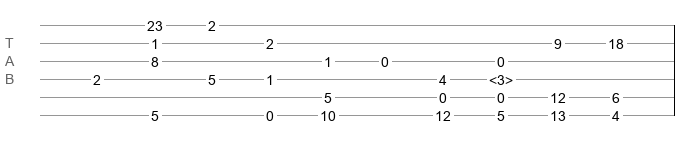0: (266, 108, 274, 118), (381, 54, 389, 64), (439, 90, 447, 100), (497, 54, 505, 64), (497, 90, 505, 100)
1: (151, 36, 159, 46), (266, 72, 274, 82), (324, 54, 332, 64)
10: (320, 108, 336, 118)
12: (435, 108, 451, 118), (550, 90, 566, 100)
13: (550, 108, 566, 118)
18: (608, 36, 624, 46)
2: (93, 72, 101, 82), (208, 18, 216, 28), (266, 36, 274, 46)
23: (147, 18, 163, 28)
4: (439, 72, 447, 82), (612, 108, 620, 118)
5: (151, 108, 159, 118), (208, 72, 216, 82), (324, 90, 332, 100), (497, 108, 505, 118)
6: (612, 90, 620, 100)
8: (151, 54, 159, 64)
9: (554, 36, 562, 46)
harmonic: (489, 72, 513, 82)
